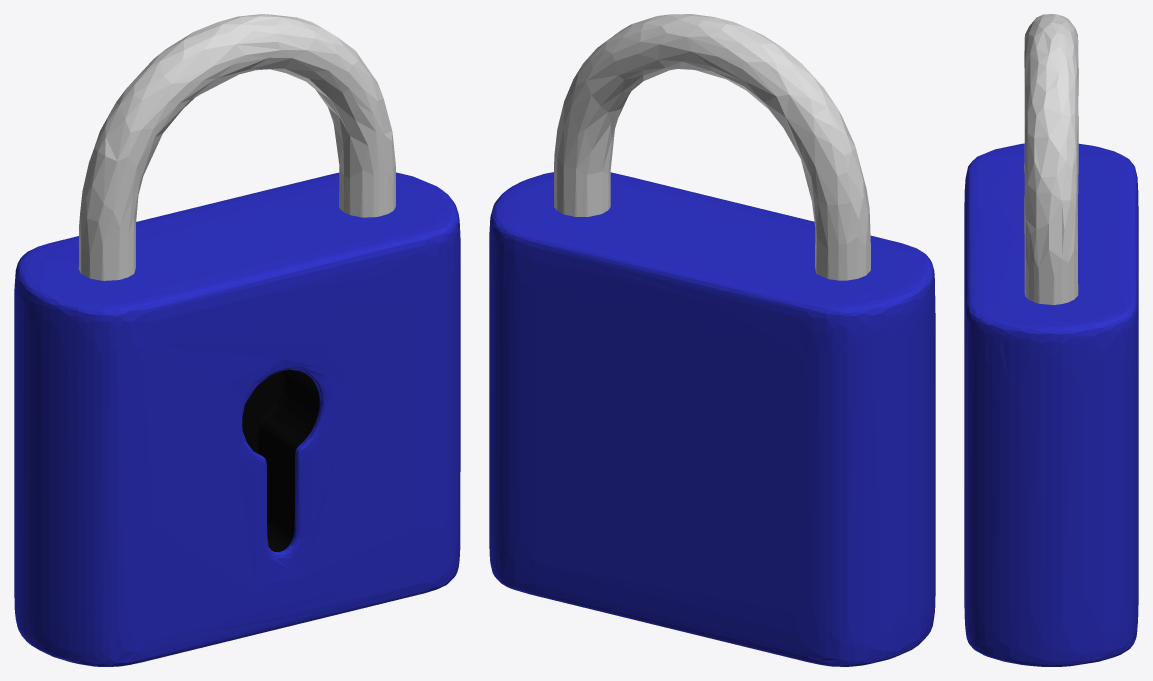
File: supervision-lock.glb
3 renders of one model, left to right at view 1: azimuth 30°, elevation 25°; view 2: azimuth 150°, elevation 25°; view 3: azimuth 270°, elevation 25°, orthographic. The views are drawn at different scales.
Parts seen in each view (by area): view 1: Node1, Node3, Node2, Node4; view 2: Node1, Node3; view 3: Node1, Node3, Node2.
Part boxes in pixels (left/top/right/bottom): Node1: left=14, top=172, right=458, bottom=666; Node3: left=78, top=14, right=395, bottom=280; Node2: left=230, top=205, right=460, bottom=575; Node4: left=242, top=369, right=319, bottom=551; Node1: left=489, top=172, right=935, bottom=666; Node3: left=554, top=14, right=870, bottom=280; Node1: left=964, top=143, right=1138, bottom=666; Node3: left=1024, top=14, right=1078, bottom=304; Node2: left=978, top=319, right=1029, bottom=664.
Bounding box in the file's own units: 1.44 × 1.9 × 0.5504.
